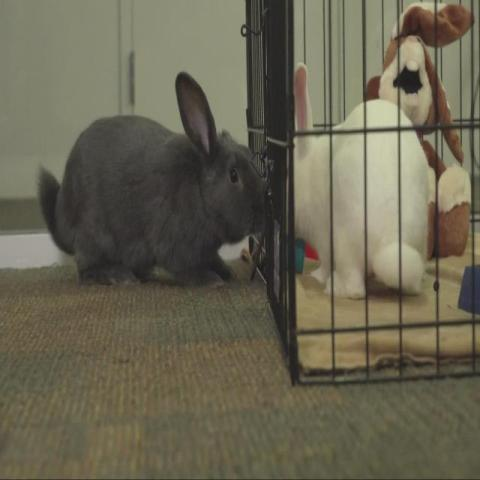small_animal: (35, 69, 268, 288), (286, 62, 433, 300)
